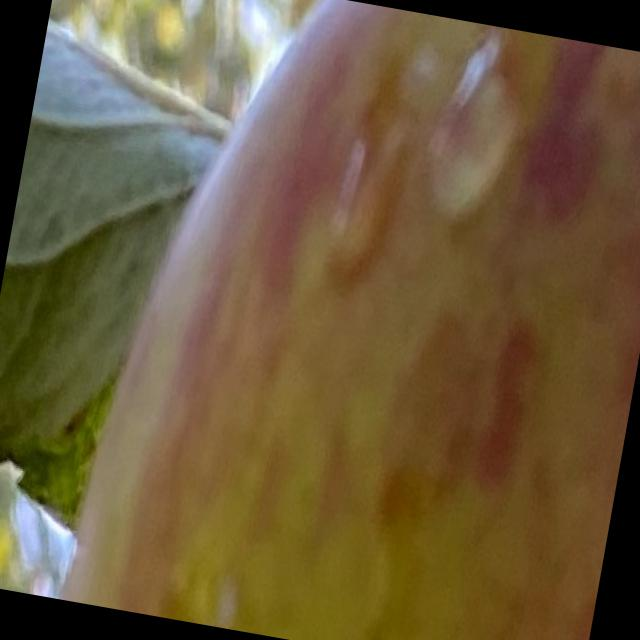Apples: (66, 0, 639, 639)
